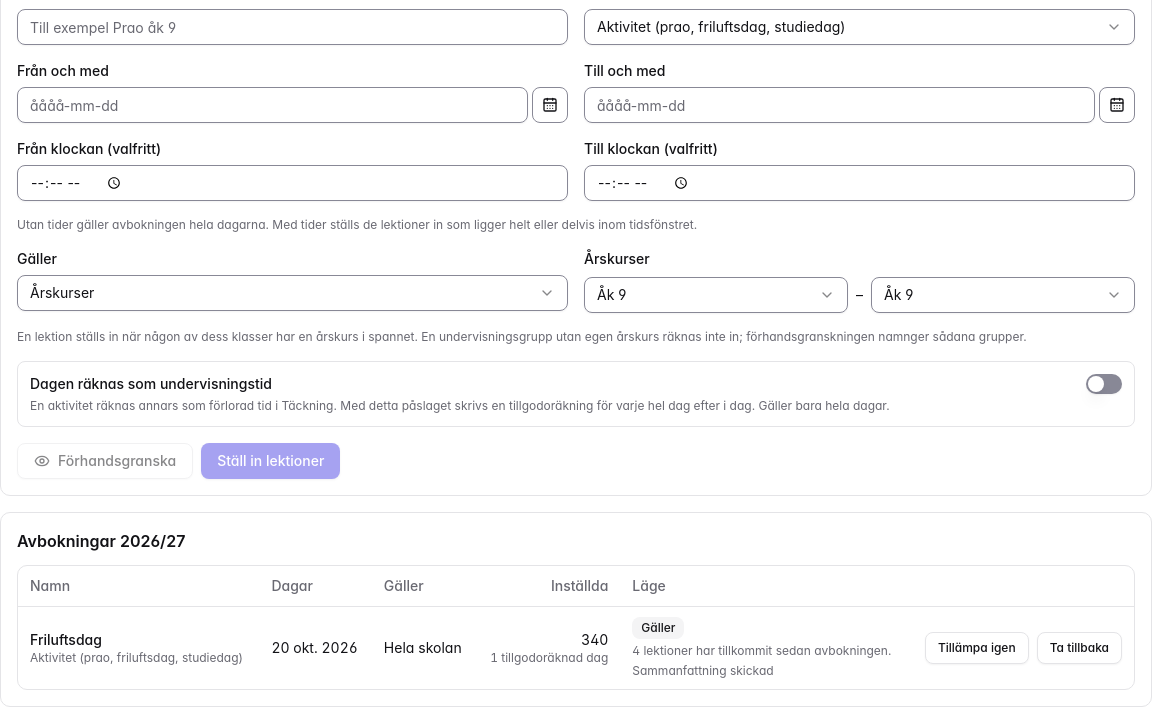
Test: /admin/cancellations › says a batch sent a digest, and how many its reversal tells
(page scrolled)
Expected: the text "Friluftsdag" shows "Sammanfattning skickad", [632,662,774,678]
What coordinates should you click on to do the following:
click the button with aria-label "Ta tillbaka Friluftsdag"
I would click on:
 (1079, 648)
Its box is [1037,632,1122,664].
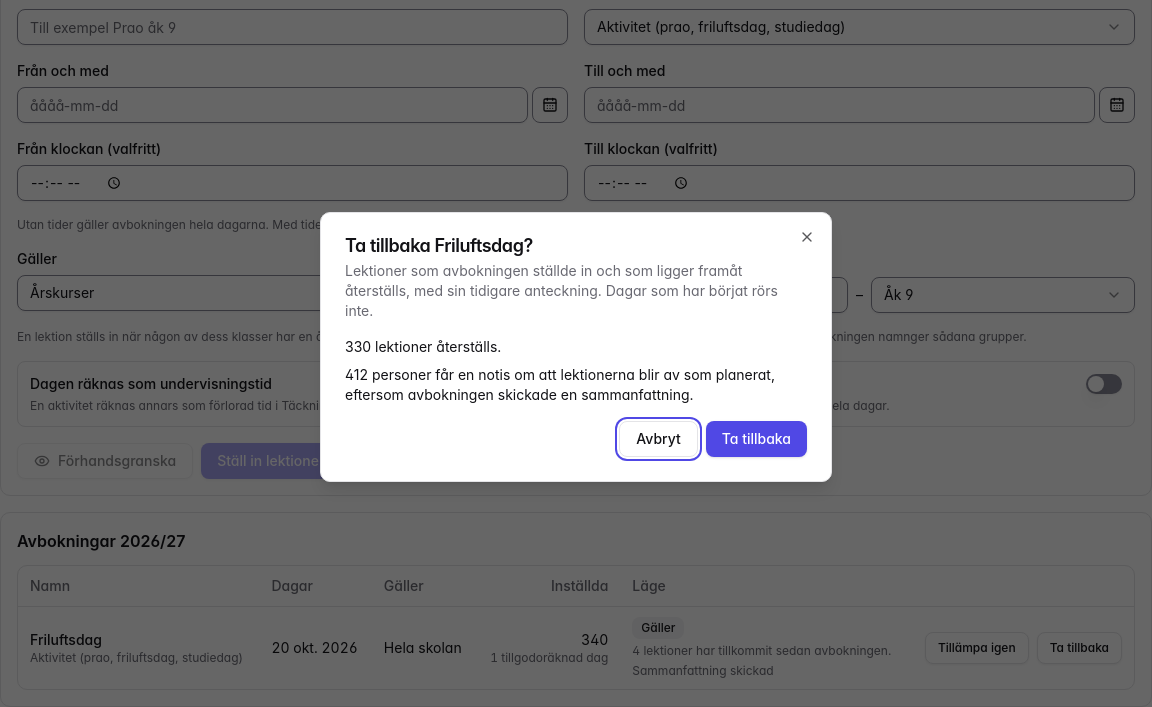
Result: the text "412 personer får en notis om att lektionerna blir av som planerat, eftersom avbokningen skickade en sammanfattning." is shown at [345,366,775,403]
